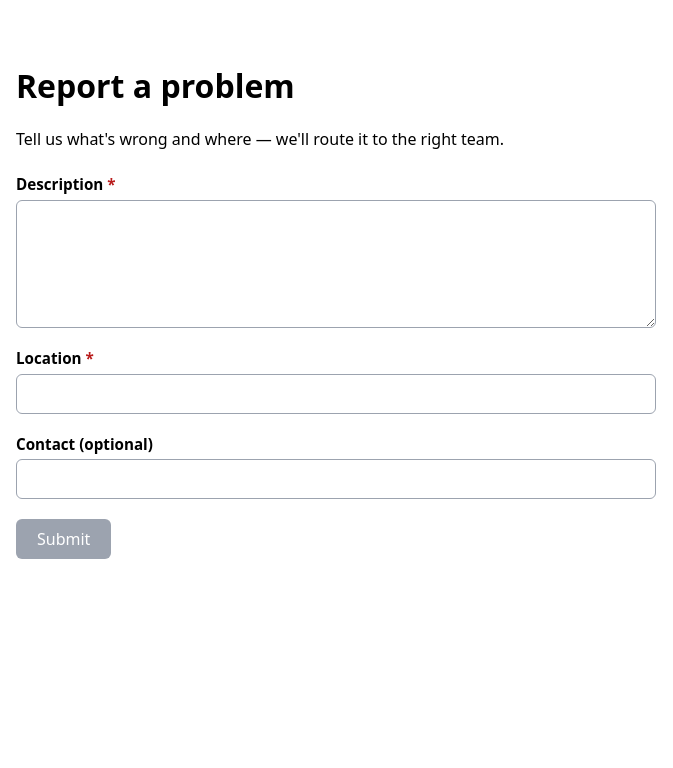
Test: SubmitPage › renders category, priority, ai_summary, and the triage provider on success
The width and height of the screenshot is (673, 768).
Type "There is a broken water pipe flooding the street." into the text box labelled "Description *".
click(336, 264); type("There is a broken water pipe flooding the street.")  # box [16, 200, 656, 328]
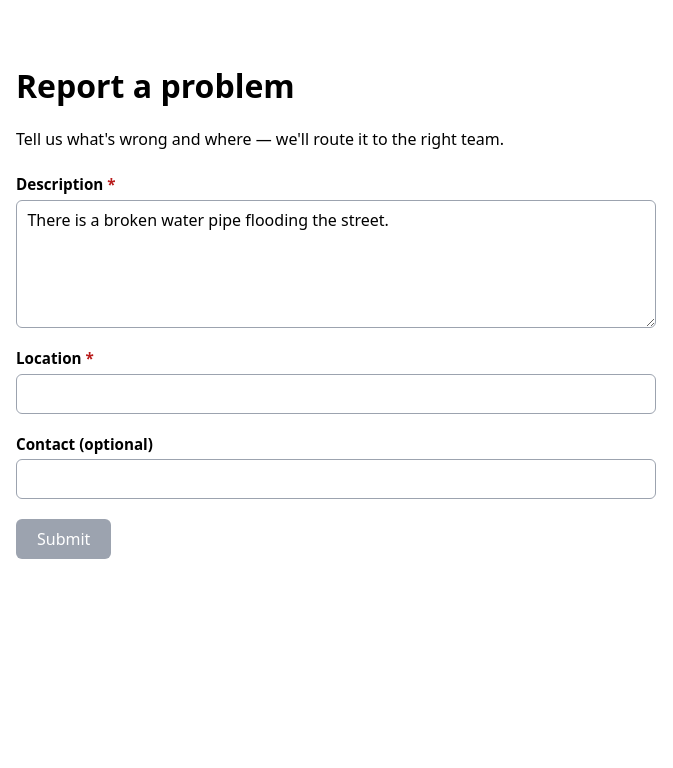
Type "Block 4, Main Street" into the field labelled "Location *".
click(336, 394); type("Block 4, Main Street")  # box [16, 374, 656, 414]
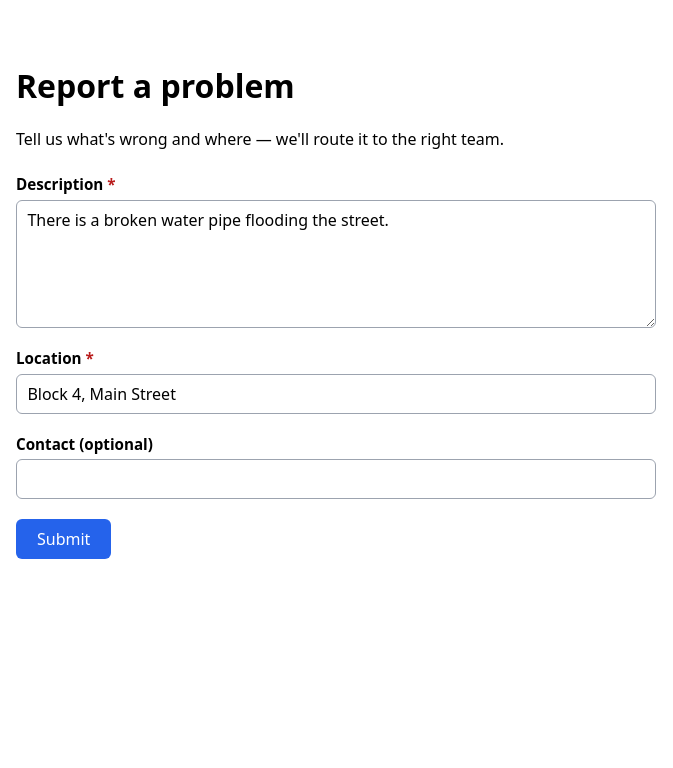
Click the button "Submit".
click(64, 539)  # box [16, 519, 111, 559]
(page scrolled)
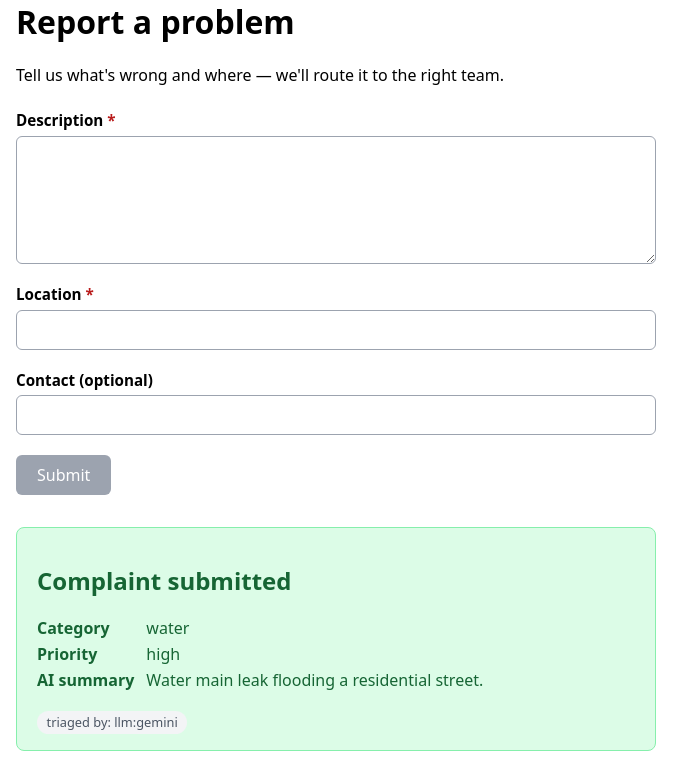
Expected: the heading "Complaint submitted" is shown, [37, 564, 292, 597]
Expected: the text "water" is shown, [146, 617, 189, 639]
Expected: the text "high" is shown, [146, 643, 180, 665]
